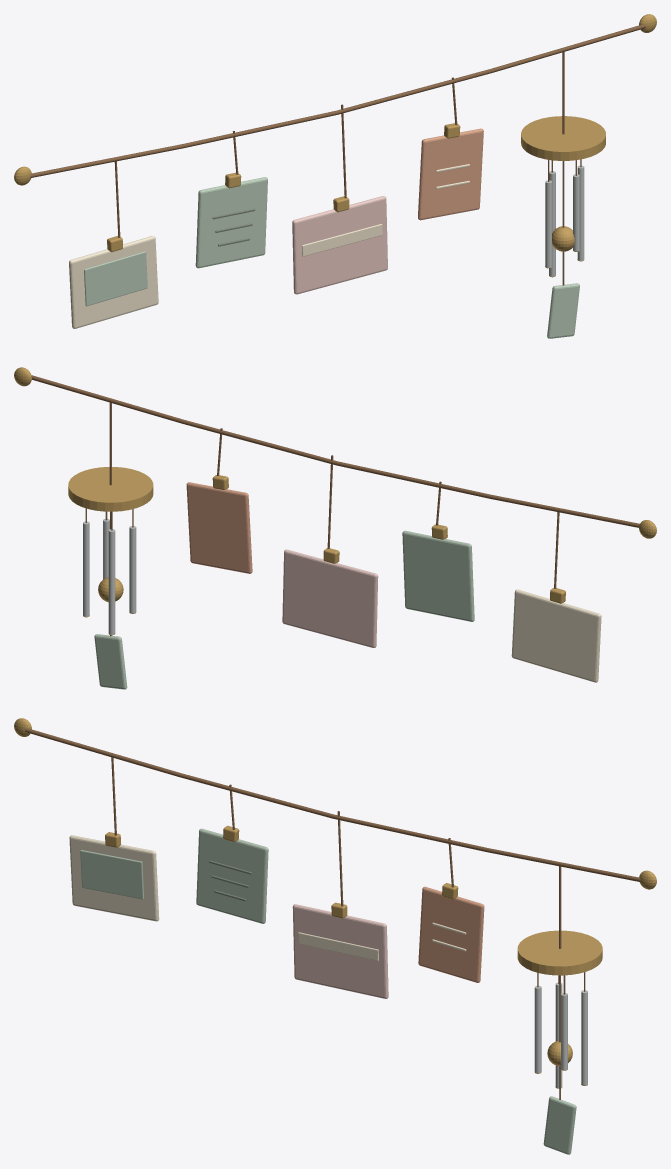
The model's file is hanging.glb.
3 views of the same model, one above another, from view 1: azimuth 30°, elevation 25°; view 2: azimuth 150°, elevation 25°; view 3: azimuth 330°, elevation 25° (orthographic).
Parts seen in each view (by area): view 1: Hanging_Card_2, Hanging_Card_1, Hanging_Card_3, Hanging_Card_0, Hanging_ChimeCap, Hanging_MainCord, Hanging_PhotoInset, Hanging_WindSail, Hanging_PostcardBand, Hanging_ChimeTube_0, Hanging_ChimeTube_3, Hanging_ChimeTube_2 (+1 smaller); view 2: Hanging_Card_2, Hanging_Card_0, Hanging_Card_1, Hanging_Card_3, Hanging_ChimeCap, Hanging_MainCord, Hanging_WindSail, Hanging_ChimeTube_1, Hanging_ChimeTube_0, Hanging_ChimeTube_3; view 3: Hanging_Card_2, Hanging_Card_1, Hanging_Card_3, Hanging_Card_0, Hanging_ChimeCap, Hanging_MainCord, Hanging_PhotoInset, Hanging_WindSail, Hanging_PostcardBand, Hanging_ChimeTube_0, Hanging_ChimeTube_3.
Boxes of the visible parts, x1=… form: Hanging_Card_2: x1=292, y1=196, x2=387, y2=294; Hanging_Card_1: x1=195, y1=177, x2=267, y2=268; Hanging_Card_3: x1=418, y1=128, x2=483, y2=220; Hanging_Card_0: x1=69, y1=236, x2=158, y2=328; Hanging_ChimeCap: x1=521, y1=116, x2=605, y2=160; Hanging_MainCord: x1=30, y1=24, x2=645, y2=177; Hanging_PhotoInset: x1=84, y1=251, x2=147, y2=306; Hanging_WindSail: x1=547, y1=283, x2=579, y2=338; Hanging_PostcardBand: x1=302, y1=224, x2=382, y2=256; Hanging_ChimeTube_0: x1=545, y1=180, x2=551, y2=267; Hanging_ChimeTube_3: x1=577, y1=165, x2=584, y2=260; Hanging_ChimeTube_2: x1=573, y1=174, x2=579, y2=251; Hanging_Card_2: x1=282, y1=549, x2=378, y2=647; Hanging_Card_0: x1=511, y1=589, x2=601, y2=682; Hanging_Card_1: x1=402, y1=530, x2=474, y2=621; Hanging_Card_3: x1=186, y1=482, x2=252, y2=573; Hanging_ChimeCap: x1=68, y1=467, x2=153, y2=511; Hanging_MainCord: x1=31, y1=375, x2=639, y2=527; Hanging_WindSail: x1=94, y1=634, x2=127, y2=689; Hanging_ChimeTube_1: x1=108, y1=529, x2=115, y2=634; Hanging_ChimeTube_0: x1=129, y1=526, x2=136, y2=613; Hanging_ChimeTube_3: x1=83, y1=521, x2=89, y2=616; Hanging_Card_2: x1=292, y1=904, x2=388, y2=998; Hanging_Card_1: x1=196, y1=828, x2=268, y2=923; Hanging_Card_3: x1=418, y1=886, x2=484, y2=982; Hanging_Card_0: x1=69, y1=835, x2=159, y2=921; Hanging_ChimeCap: x1=517, y1=930, x2=602, y2=975; Hanging_MainCord: x1=25, y1=728, x2=640, y2=881; Hanging_PhotoInset: x1=80, y1=850, x2=143, y2=899; Hanging_WindSail: x1=543, y1=1096, x2=576, y2=1154; Hanging_PostcardBand: x1=298, y1=932, x2=378, y2=960; Hanging_ChimeTube_0: x1=534, y1=986, x2=541, y2=1073; Hanging_ChimeTube_3: x1=581, y1=990, x2=587, y2=1085.
Size of the model in its own units: 2.61 by 1.17 by 0.3.
